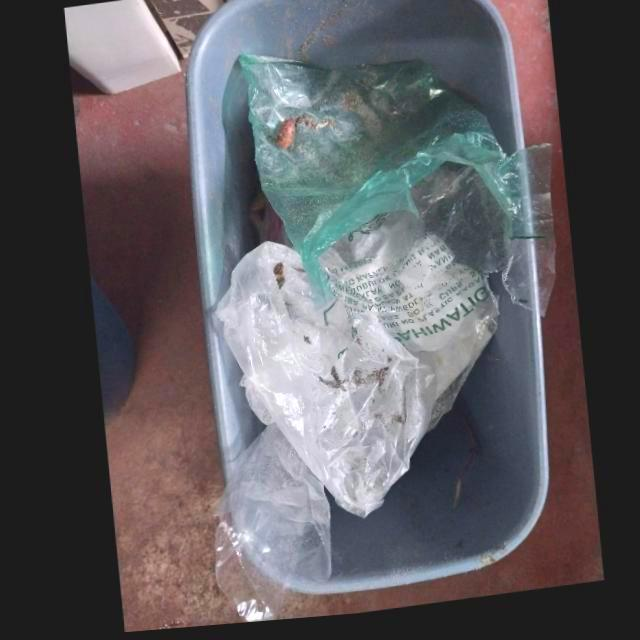plastic_bag: (238, 55, 555, 374), (214, 249, 496, 523), (206, 425, 327, 626)
